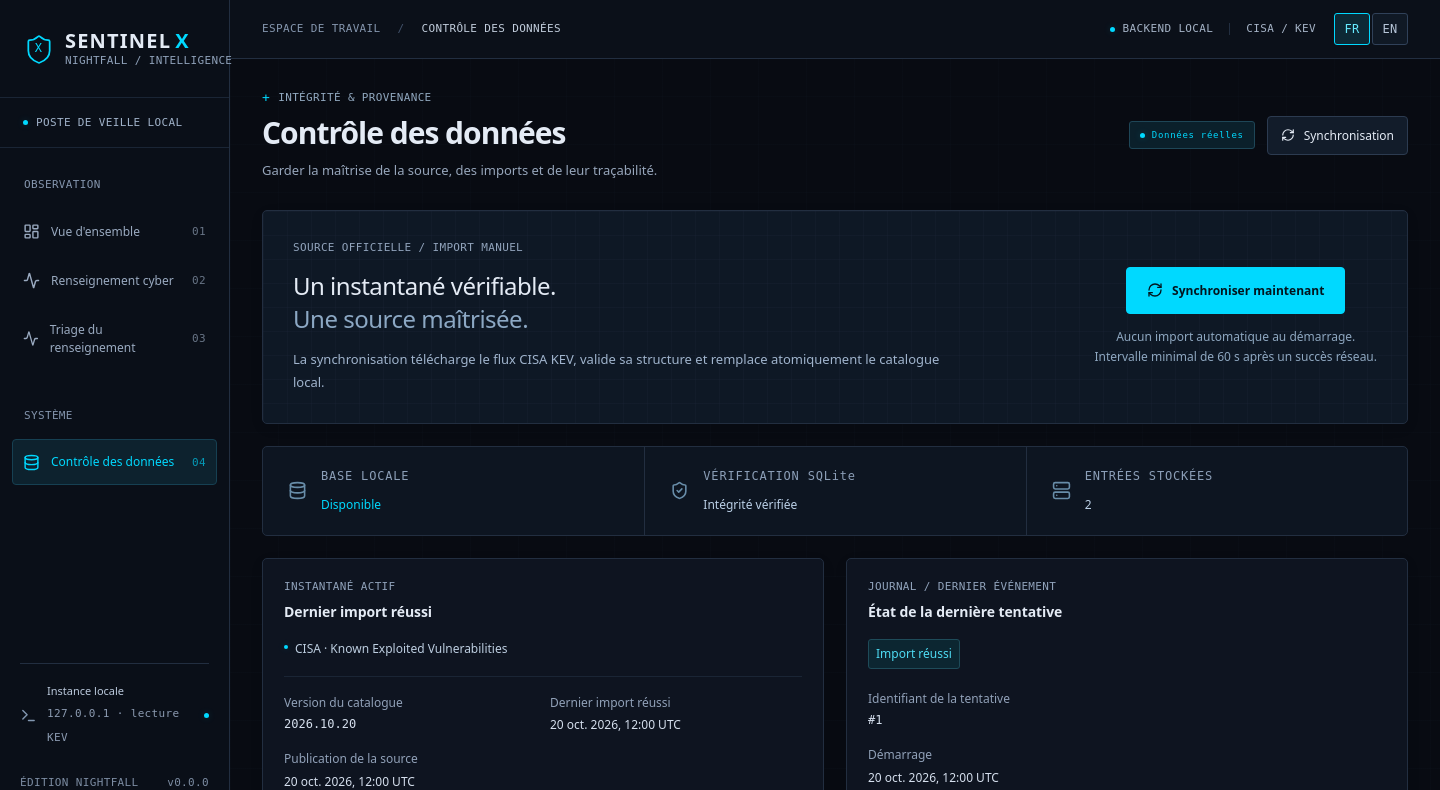
Scenario: re-localizes failed sync and stale-status feedback (reread fails: true)
Click the button "Synchroniser maintenant".
click(1236, 290)  # box [1126,267,1345,314]
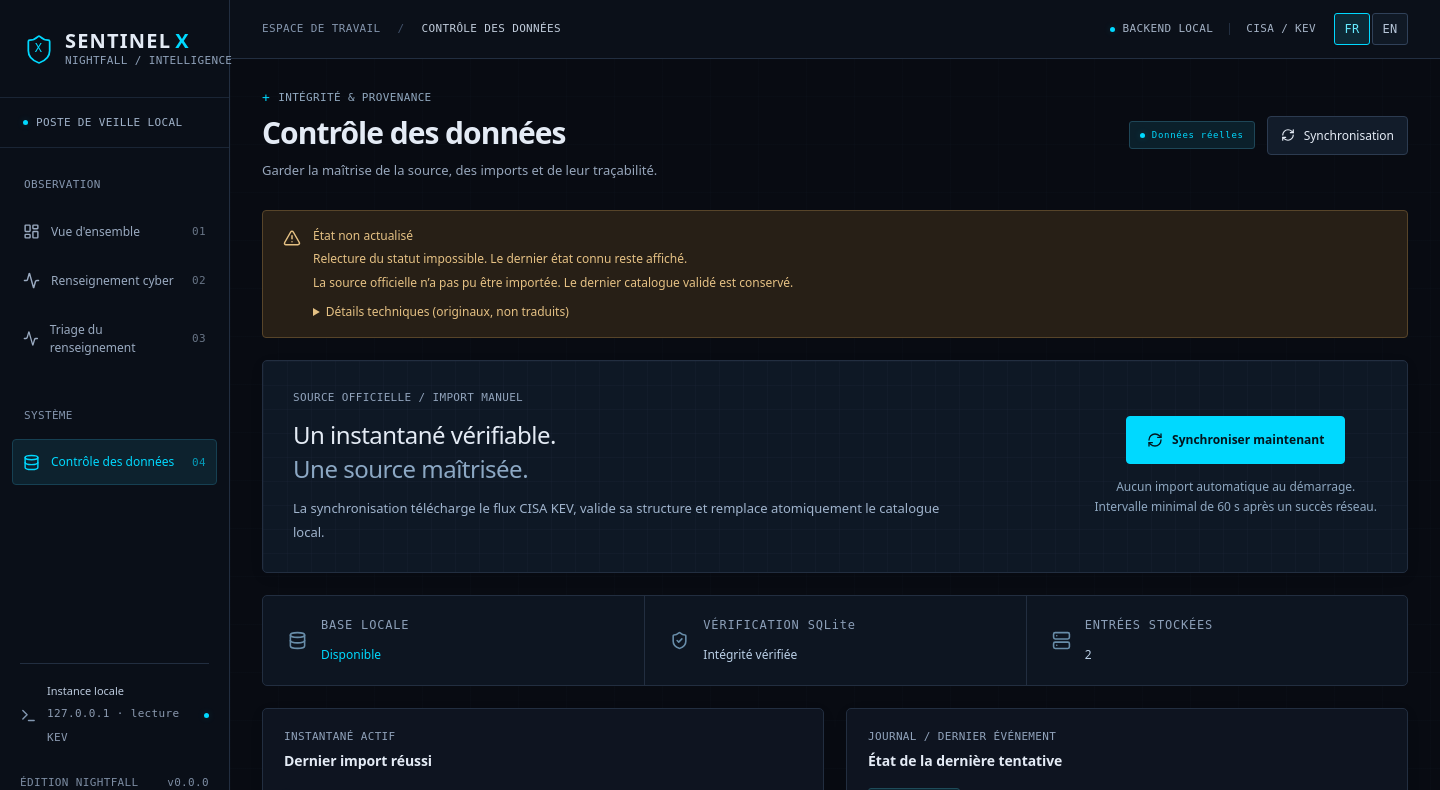
Check: the text "Relecture du statut impossible. Le dernier état connu reste affiché." is shown, box [313,250,687,267]
Click the button with test id "language-en".
click(1390, 29)  # box [1372,13,1408,45]
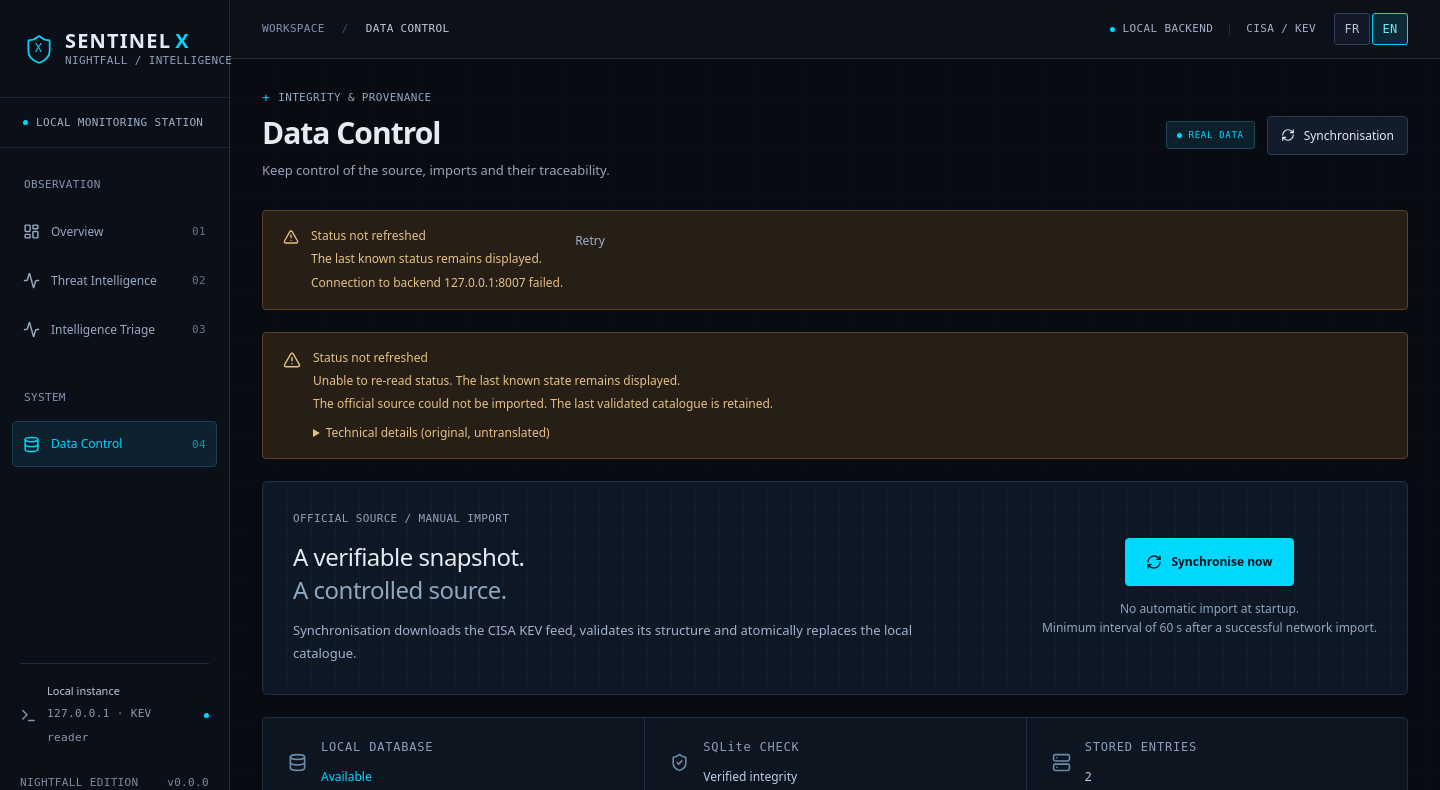
Check: the text "Unable to re-read status. The last known state remains displayed." is shown, box [313,372,680,389]
Check: the text "The official source could not be imported. The last validated catalogue is retained." is shown, box [313,395,773,412]
